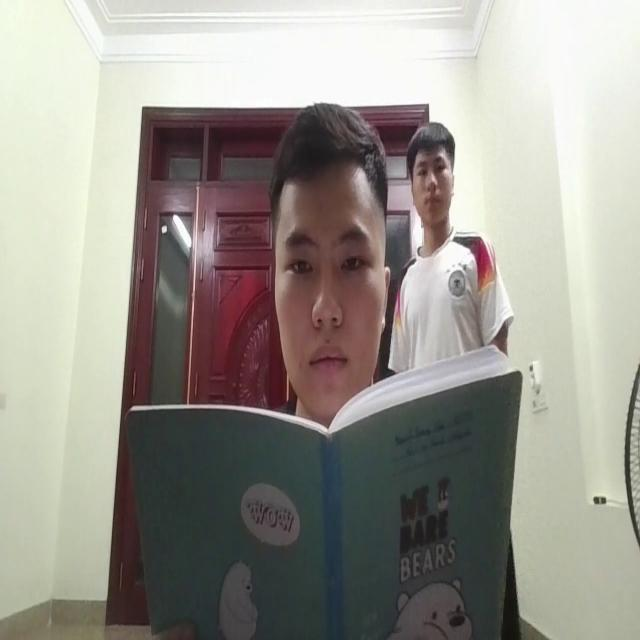book: (96, 362, 496, 640)
extra_person: (391, 118, 515, 370)
student: (274, 100, 387, 414)
